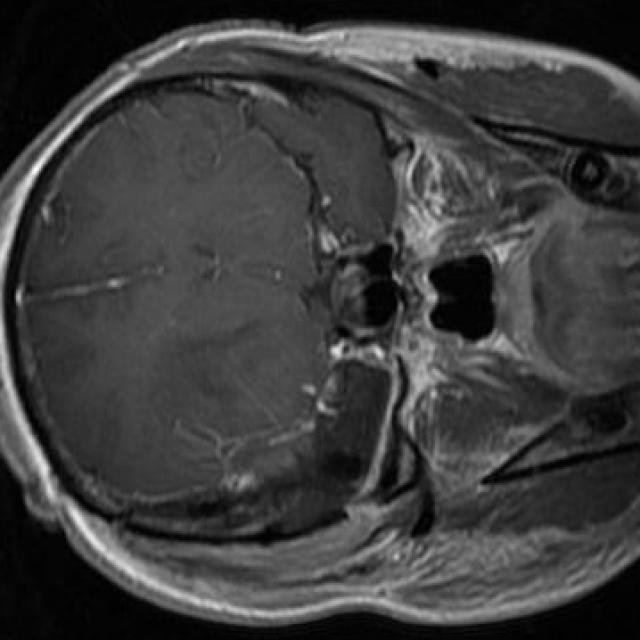glioma: (127, 360, 390, 540)
